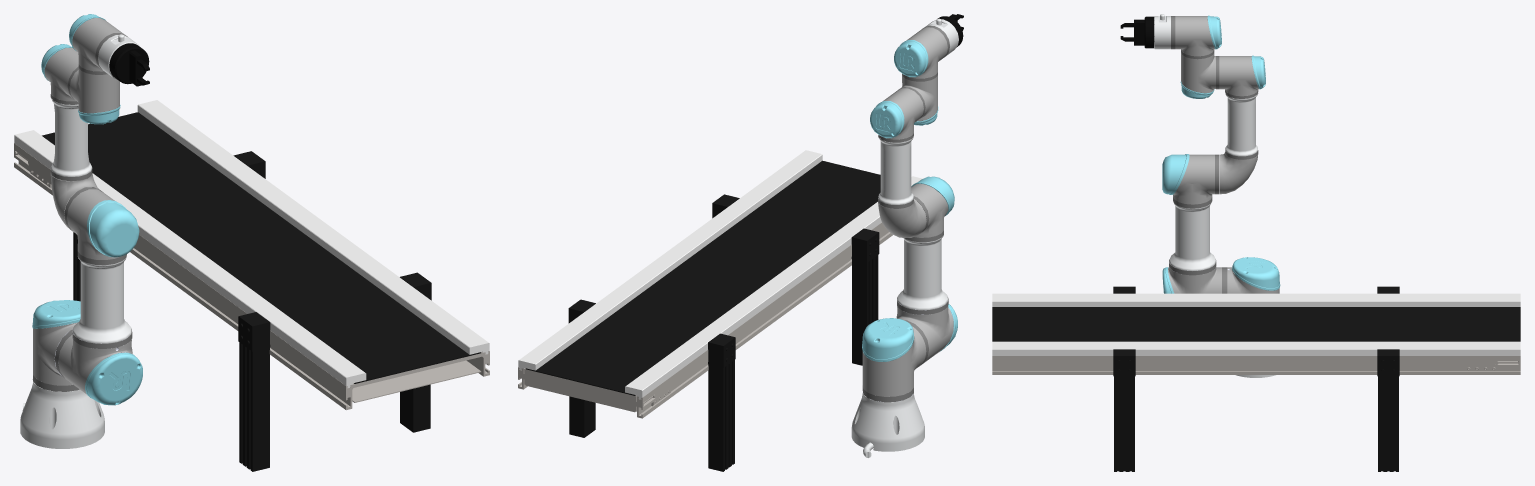
File: UR_Pick_and_Place_Station.glb
The picture shows the model from 3 angles, left to right: view 1: azimuth 30°, elevation 25°; view 2: azimuth 150°, elevation 25°; view 3: azimuth 270°, elevation 25°; orthographic projection. The views are drawn at different scales.
Parts seen in each view (by area): view 1: color-6[2], URjoint2_Bodies, color-6[3], color-6[4], color-6[5], URjoint3_Bodies, color-7[1], URbase_Bodies, URjoint1_Bodies, URjoint4_Bodies, color-6[1], color-7[2] (+4 smaller); view 2: color-6[2], color-6[3], URjoint2_Bodies, color-6[4], URjoint3_Bodies, URjoint1_Bodies, color-6[5], color-7, URbase_Bodies, color-7[1], color-6, URjoint5_Bodies (+3 smaller); view 3: color-6[2], color-6[5], color-6[3], color-6[4], URjoint2_Bodies, URjoint3_Bodies, color-7[2], color-7[3], URjoint5_Bodies, URjoint1_Bodies, URjoint4_Bodies, color-6 (+2 smaller).
Part boxes in pixels (x1,y1,x2,y2): color-6[2]: [42, 112, 481, 383]; URjoint2_Bodies: [54, 189, 142, 405]; color-6[3]: [137, 100, 489, 354]; color-6[4]: [14, 130, 366, 387]; color-6[5]: [38, 161, 489, 410]; URjoint3_Bodies: [41, 44, 103, 231]; color-7[1]: [238, 312, 270, 471]; URbase_Bodies: [20, 379, 104, 448]; URjoint1_Bodies: [32, 300, 80, 391]; URjoint4_Bodies: [67, 66, 120, 124]; color-6[1]: [352, 360, 481, 402]; color-7[2]: [400, 272, 431, 432]; color-6[2]: [525, 160, 880, 395]; color-6[3]: [518, 150, 822, 370]; URjoint2_Bodies: [893, 176, 957, 364]; color-6[4]: [625, 176, 922, 399]; URjoint3_Bodies: [870, 88, 929, 237]; URjoint1_Bodies: [862, 318, 926, 402]; color-6[5]: [663, 222, 892, 402]; color-7: [708, 333, 735, 471]; URbase_Bodies: [851, 393, 924, 457]; color-7[1]: [851, 228, 879, 365]; color-6: [518, 367, 670, 418]; URjoint5_Bodies: [894, 27, 947, 81]; color-6[2]: [992, 307, 1520, 341]; color-6[5]: [992, 356, 1481, 374]; color-6[3]: [992, 341, 1520, 355]; color-6[4]: [992, 293, 1520, 306]; URjoint2_Bodies: [1162, 154, 1227, 293]; URjoint3_Bodies: [1215, 55, 1265, 194]; color-7[2]: [1113, 349, 1135, 471]; color-7[3]: [1377, 349, 1399, 471]; URjoint5_Bodies: [1175, 15, 1221, 59]; URjoint1_Bodies: [1227, 257, 1280, 293]; URjoint4_Bodies: [1180, 52, 1219, 98]; color-6: [1465, 356, 1520, 374].
Bounding box in the file's own units: 0.5517 × 0.7308 × 1.
